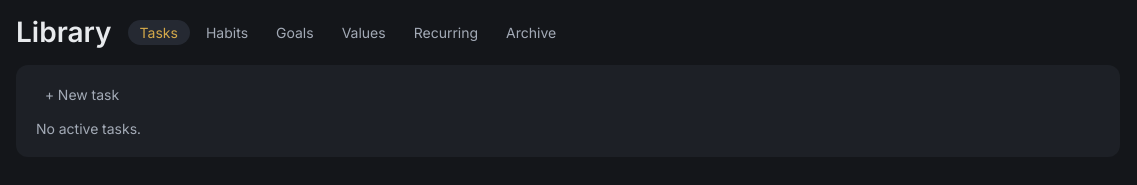
Test: Library habit list and creation › flags habits that are not added to daily plans
Click the tab "Habits": (227, 32) top-left (194, 20), bottom-right (260, 44)
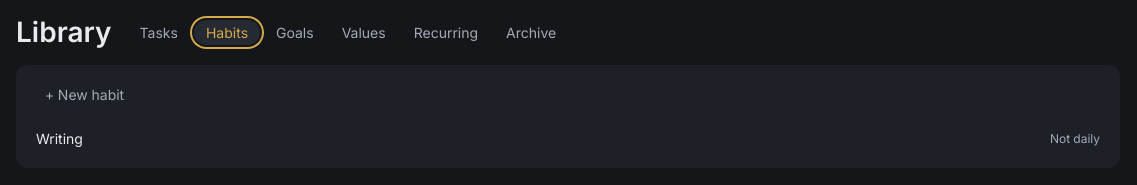
Check: the text "Not daily" is shown, box top-left (1050, 130), bottom-right (1100, 146)
